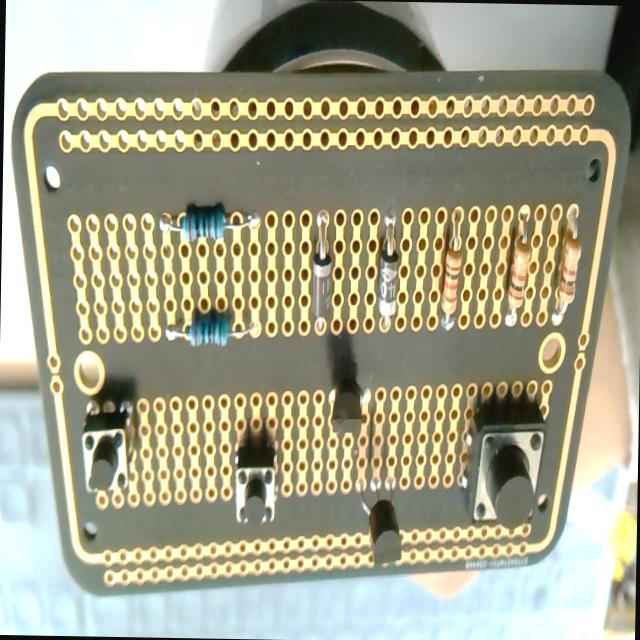diode: (310, 207, 334, 329), (378, 208, 400, 326)
resistor: (166, 306, 256, 348), (159, 205, 256, 242), (552, 210, 582, 326), (438, 207, 464, 332), (506, 208, 532, 328)
switch: (469, 421, 546, 530), (80, 401, 132, 496), (232, 442, 276, 526)
transistor: (358, 476, 403, 566), (326, 382, 372, 444)
